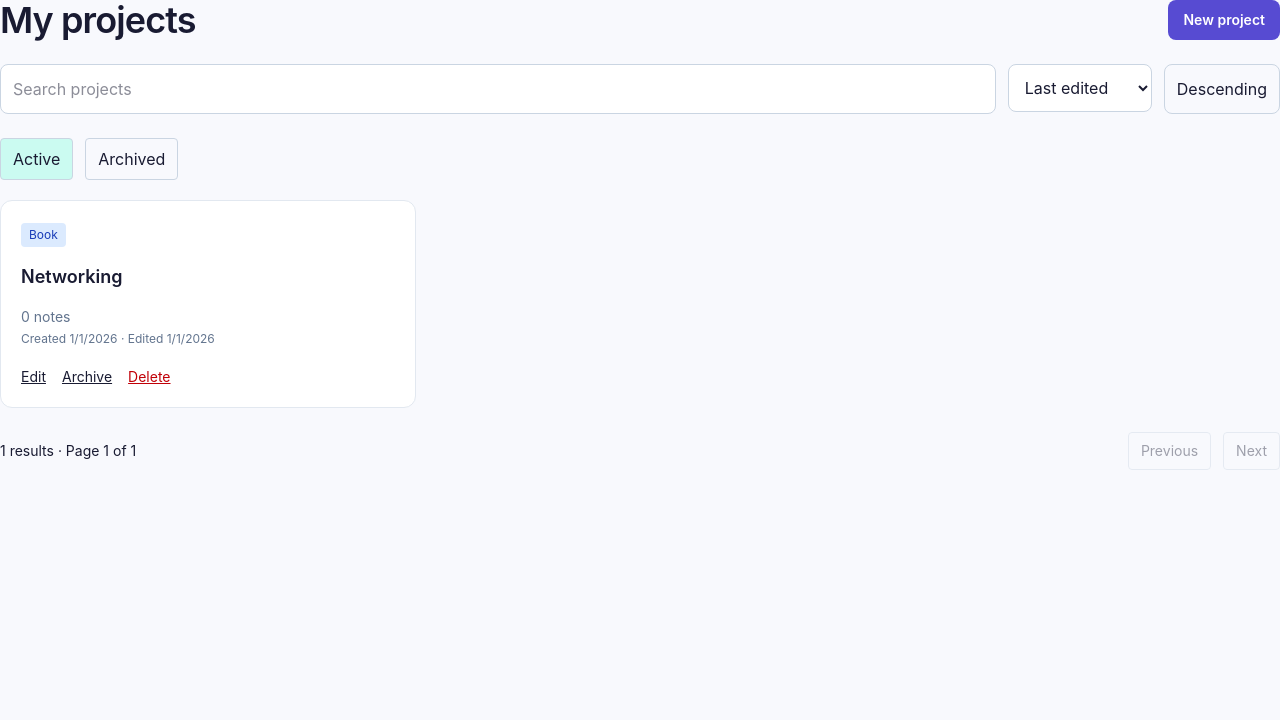
Test: shows deletion impact and cancellation makes no delete request
Later steps or results of the test are not shown.
Expected: the heading "Networking" is shown, [21,266,122,287]
Step 1. Click the button "Delete" → {"x": 149, "y": 377}, box [128,367,170,387]
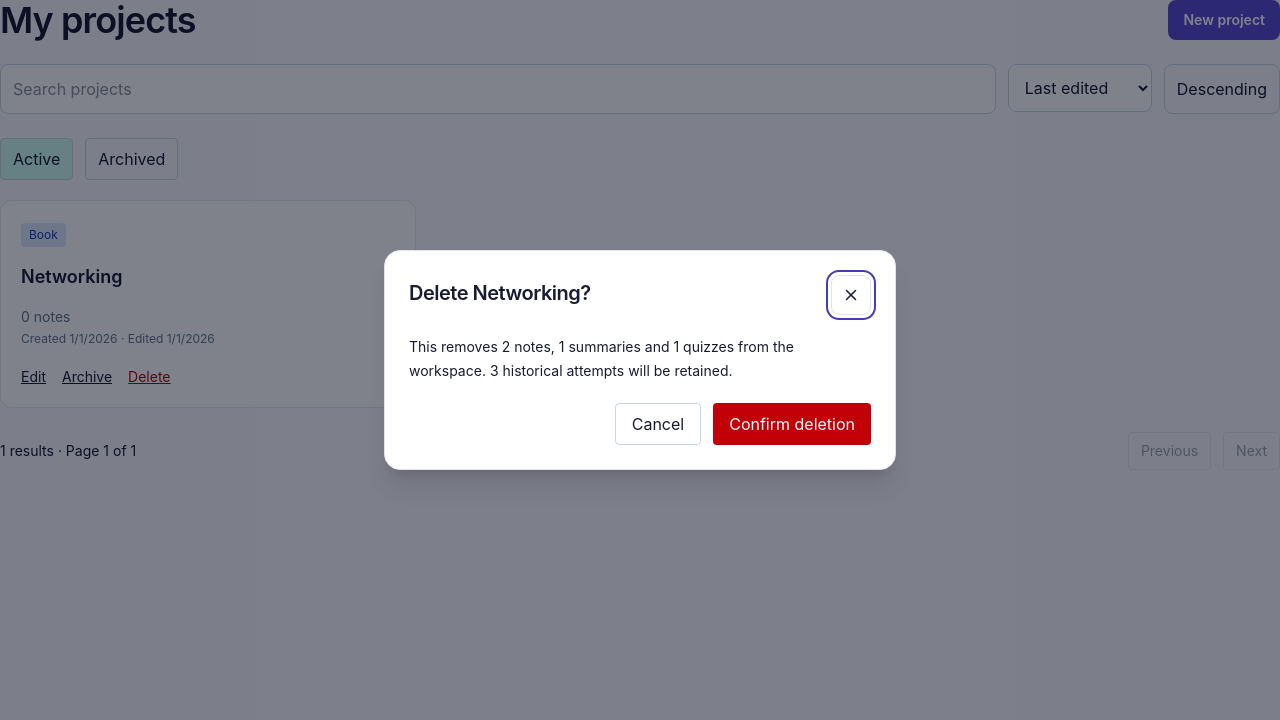
Expected: the text "3 historical attempts" is shown, [409,338,794,379]
